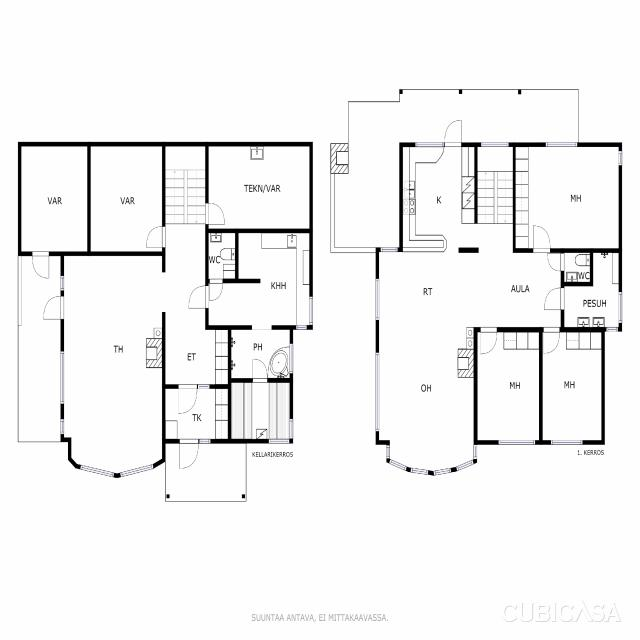door: (178, 385, 197, 413), (180, 439, 198, 468), (43, 296, 64, 319), (533, 225, 550, 253), (32, 251, 49, 278), (188, 286, 208, 308), (544, 288, 564, 310), (445, 120, 461, 147), (146, 226, 166, 247), (544, 327, 560, 353), (481, 327, 496, 354), (206, 203, 224, 224), (253, 359, 267, 382), (548, 253, 564, 271), (210, 278, 222, 300)
